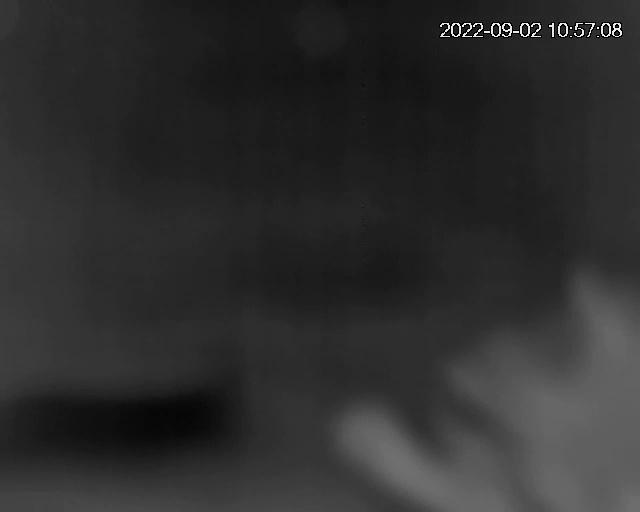DJI-Phantom: (347, 277, 640, 512)
